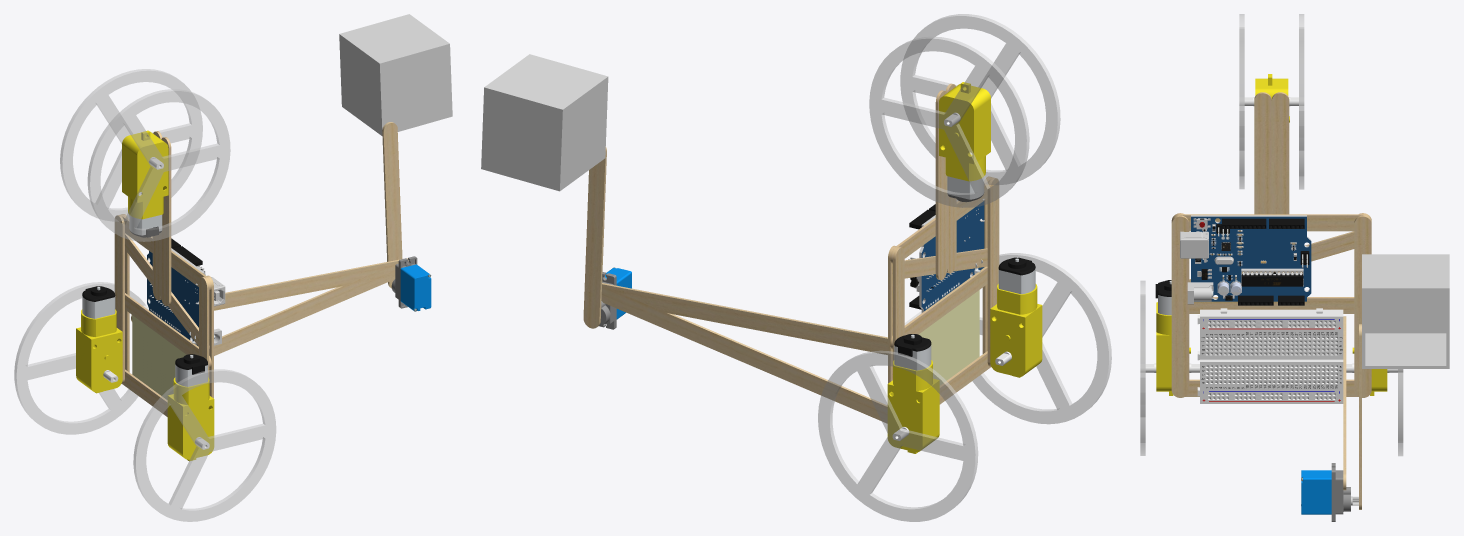
The model's file is Eg1311_robot_cad.glb.
3 renders of one model, left to right at view 1: azimuth 30°, elevation 25°; view 2: azimuth 150°, elevation 25°; view 3: azimuth 270°, elevation 25°, orthographic. The views are drawn at different scales.
Visible parts, largest first — view 1: Ping Pong Box-1, wheel-4, wheel-2, wheel-3, wheel-1, motor-3, motor-2, motor-4, breadboard-1, arduino_uno-1, wooden_stick-33, wooden_stick-31 (+14 smaller); view 2: Ping Pong Box-1, wheel-3, wheel-1, wheel-4, wheel-2, motor-3, motor-2, motor-4, breadboard-1, arduino_uno-1, wooden_stick-33, wooden_stick-32 (+12 smaller); view 3: breadboard-1, arduino_uno-1, Ping Pong Box-1, wooden_stick-26, wooden_stick-24, servo_motor-1, wooden_stick-23, motor-3, wooden_stick-25, wooden_stick-19, wooden_stick-20, wheel-3 (+7 smaller).
Part boxes in pixels (x1,y1,x2,y2): Ping Pong Box-1: (339,14,452,135); wheel-4: (87,89,230,241); wheel-2: (133,369,276,521); wheel-3: (60,69,202,221); wheel-1: (14,282,145,434); motor-3: (167,354,214,461); motor-2: (76,286,122,393); motor-4: (122,130,168,237); breadboard-1: (132,305,186,399); arduino_uno-1: (147,238,225,346); wooden_stick-33: (382,122,402,288); wooden_stick-31: (251,264,395,337); Ping Pong Box-1: (481,54,608,191); wheel-3: (869,36,1029,207); wheel-1: (818,350,978,521); wheel-4: (900,14,1060,184); wheel-2: (972,253,1111,424); motor-3: (990,257,1042,377); motor-2: (887,334,939,453); motor-4: (939,82,990,201); breadboard-1: (904,290,979,385); arduino_uno-1: (908,199,984,312); wooden_stick-33: (583,146,606,328); wooden_stick-32: (726,341,887,423); breadboard-1: (1197,308,1343,403); arduino_uno-1: (1180,215,1311,305); Ping Pong Box-1: (1362,254,1449,368); wooden_stick-26: (1171,215,1189,397); wooden_stick-24: (1271,92,1289,214); servo_motor-1: (1301,463,1358,521); wooden_stick-23: (1254,92,1271,214); motor-3: (1140,280,1199,395); wooden_stick-25: (1354,215,1371,397); wooden_stick-19: (1189,297,1354,313); wooden_stick-20: (1171,214,1371,231); wheel-3: (1299,14,1304,189).
Bounding box in the file's own units: 0.2984 × 0.2676 × 0.1763.
Materials: 63 (1 with a texture image).
